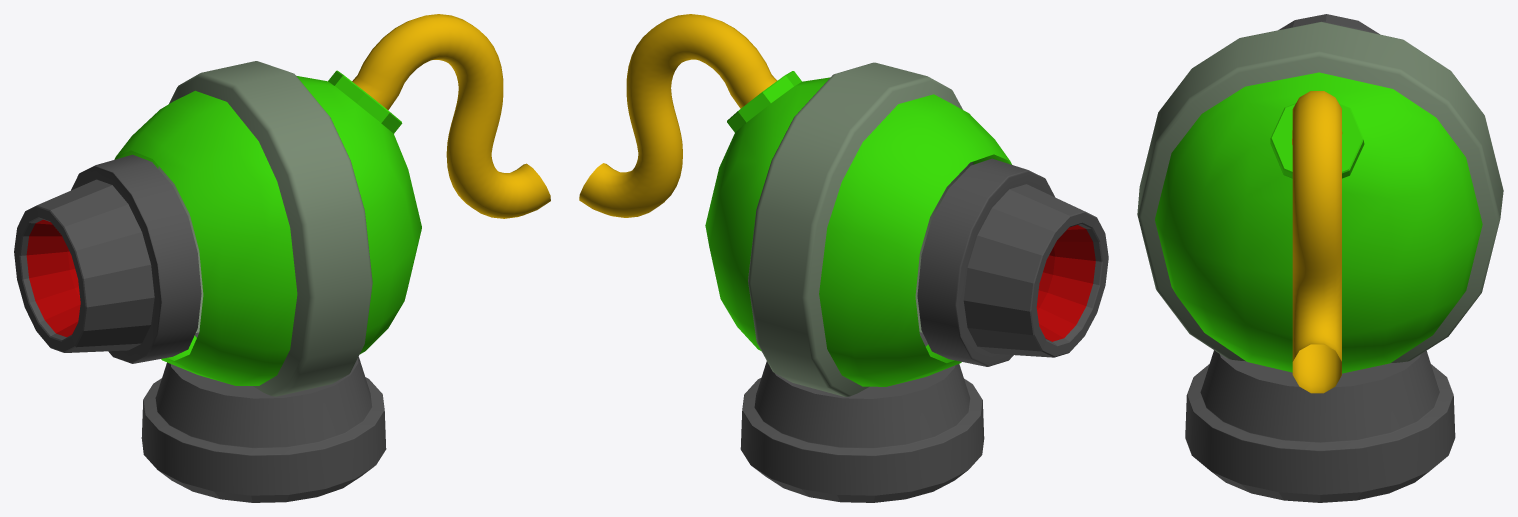
File: green bomb temp.fbx
3 renders of one model, left to right at view 1: azimuth 30°, elevation 25°; view 2: azimuth 150°, elevation 25°; view 3: azimuth 270°, elevation 25°, orthographic. The views are drawn at different scales.
Parts seen in each view (by area): view 1: polySurface15, pCylinder1, polySurface16, polySurface19, polySurface17; view 2: polySurface15, pCylinder1, polySurface16, polySurface19, polySurface17; view 3: polySurface15, pCylinder1, polySurface19, polySurface16.
Part boxes in pixels (x1,y1,x2,y2): polySurface15: [114, 61, 421, 396]; pCylinder1: [141, 332, 386, 502]; polySurface16: [14, 179, 154, 352]; polySurface19: [352, 14, 550, 218]; polySurface17: [71, 154, 201, 363]; polySurface15: [705, 62, 1011, 396]; pCylinder1: [740, 332, 984, 502]; polySurface16: [963, 184, 1108, 357]; polySurface19: [579, 14, 777, 217]; polySurface17: [917, 158, 1054, 366]; polySurface15: [1137, 21, 1503, 373]; pCylinder1: [1185, 350, 1455, 502]; polySurface19: [1292, 91, 1342, 393]; polySurface16: [1278, 14, 1379, 34].
Size of the model in its own units: 17.6 by 13.99 by 10.32.
